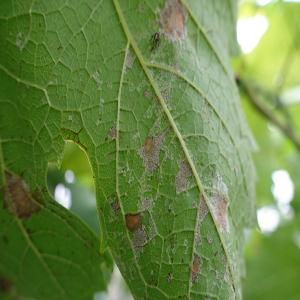Folha: (0, 0, 260, 299)
Fungo: (90, 33, 233, 295), (194, 173, 229, 249), (1, 170, 42, 220), (136, 129, 168, 174), (156, 0, 188, 44), (208, 173, 230, 233), (124, 211, 148, 259), (194, 193, 209, 249), (174, 157, 192, 195), (92, 70, 104, 125), (107, 191, 121, 223), (0, 271, 14, 299), (190, 252, 202, 284), (132, 226, 148, 248), (125, 212, 142, 232), (15, 30, 28, 52), (148, 30, 160, 52), (125, 50, 136, 70), (110, 196, 120, 216), (92, 70, 102, 90), (143, 135, 153, 154), (108, 122, 117, 140), (147, 270, 157, 286), (141, 196, 149, 210), (190, 270, 198, 284), (166, 271, 172, 283), (221, 254, 227, 266), (215, 267, 220, 281), (130, 266, 134, 280), (207, 236, 213, 244)
